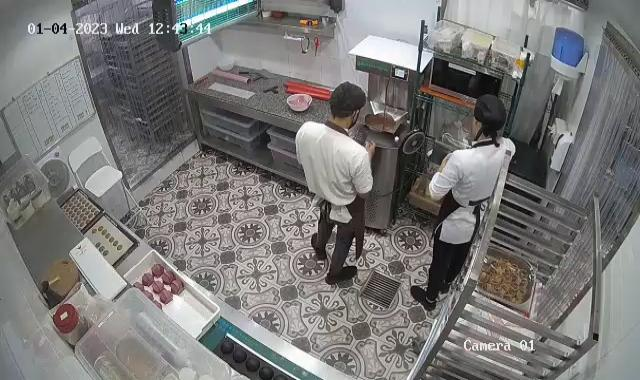no_hairnet: (328, 79, 366, 128), (470, 94, 508, 135)
